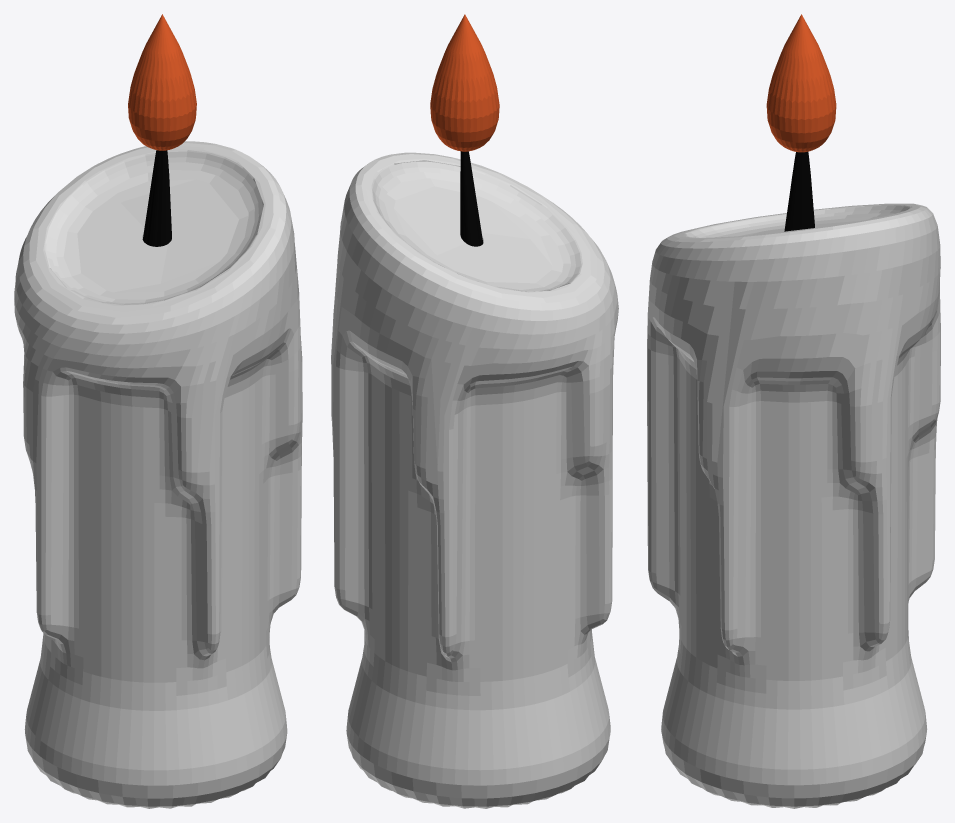
The model's file is vela.fbx.
3 views of the same model, side by side, from view 1: azimuth 30°, elevation 25°; view 2: azimuth 150°, elevation 25°; view 3: azimuth 270°, elevation 25° (orthographic).
Parts seen in each view (by area): view 1: Cone; view 2: Cone; view 3: Cone.
Boxes of the visible parts, left/top/right/bottom form: Cone: left=14, top=14, right=302, bottom=808; Cone: left=331, top=14, right=618, bottom=808; Cone: left=647, top=14, right=940, bottom=808.
Size of the model in its own units: 5.23 by 15.29 by 5.31.
